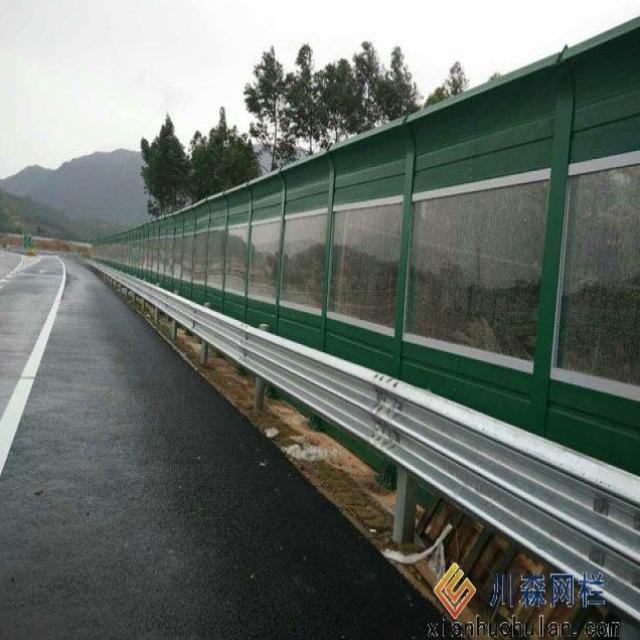Guard rail: (89, 262, 640, 622)
